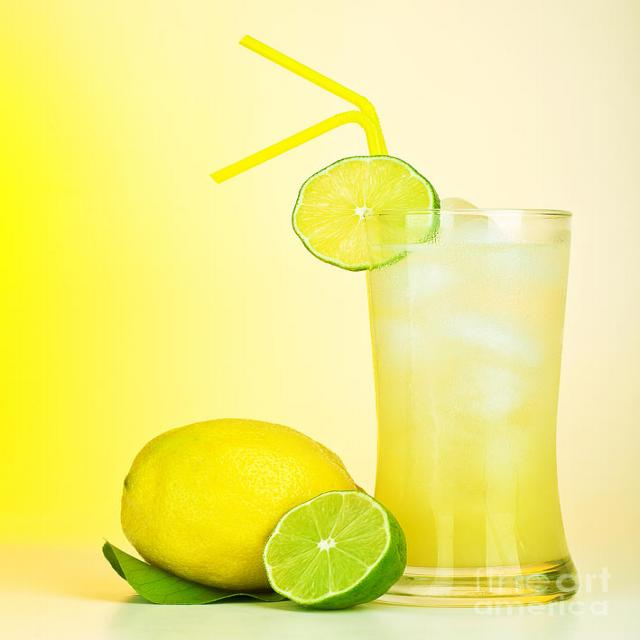lemon: (116, 414, 272, 578), (269, 490, 412, 604), (294, 157, 402, 270)
